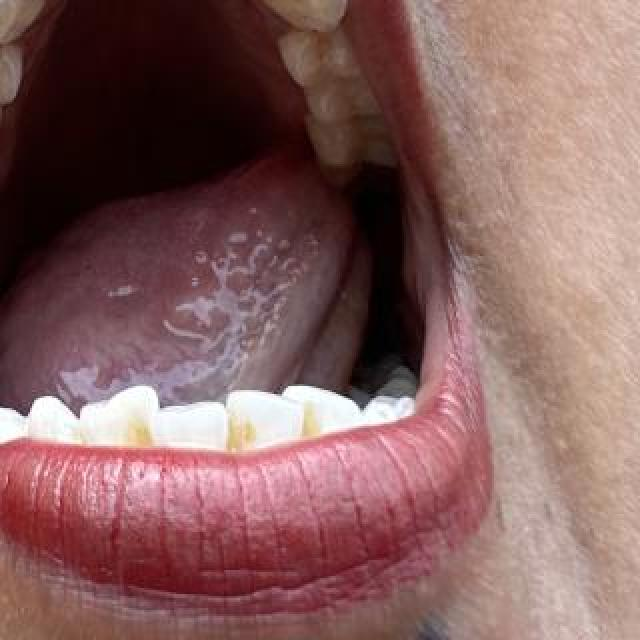maligned: (229, 379, 313, 469), (286, 370, 362, 450), (151, 384, 237, 452), (109, 378, 177, 458)
stains: (295, 390, 341, 462), (118, 407, 166, 471), (252, 0, 332, 36), (220, 397, 268, 457), (292, 29, 344, 79)
